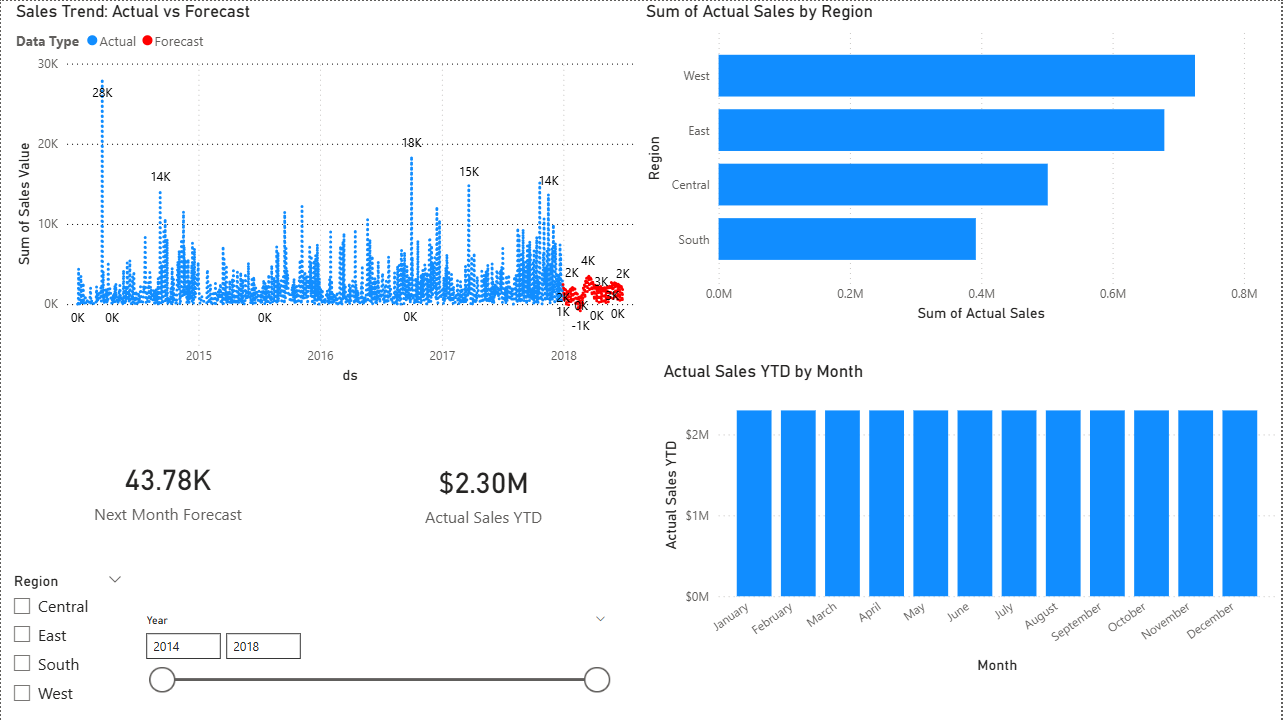

This screenshot's page, from the dashboard's own definition file:
{"tool":"powerbi","page":{"name":"Page 1","canvas":[1280,720],"ordinal":0},"visuals":[{"type":"lineChart","title":"Sales Trend: Actual vs Forecast","fields":{"Category":["final_sales_forecast.ds.Variation.Date Hierarchy.Year"],"Y":["Sum(final_sales_forecast.Sales Value)"],"Series":["final_sales_forecast.Data Type"]},"box":[9.6,0,629.8,387],"z":0},{"type":"card","fields":{"Values":["final_sales_forecast.Next Month Forecast"]},"box":[9.6,410.3,314.2,156.4],"z":1000},{"type":"card","fields":{"Values":["final_sales_forecast.Actual Sales YTD"]},"box":[325.2,414.4,315.6,152.3],"z":2000},{"type":"slicer","fields":{"Values":["monthly_region_sales.Region"]},"box":[0,566.7,133.1,153.7],"z":3000},{"type":"slicer","fields":{"Values":["Date Table.Year"]},"box":[133.1,607.9,484.4,112.5],"z":4000},{"type":"clusteredBarChart","fields":{"Category":["monthly_region_sales.Region"],"Y":["Sum(monthly_region_sales.Actual Sales)"]},"box":[640,0,622.1,325.5],"z":5000},{"type":"clusteredColumnChart","fields":{"Category":["Date Table.Date.Variation.Date Hierarchy.Month"],"Y":["final_sales_forecast.Actual Sales YTD"]},"box":[657.9,359.8,622.1,317.3],"z":6000}]}

Visuals, with their boxes in screenshot pixels (x1, y1, x2, y2), scaled from the page's 1280x720 canvas onto the 1283x720 screenshot:
"Sales Trend: Actual vs Forecast" lineChart: select_region(10, 0, 641, 387)
card - final_sales_forecast.Next Month Forecast: select_region(10, 410, 325, 567)
card - final_sales_forecast.Actual Sales YTD: select_region(326, 414, 642, 567)
slicer - monthly_region_sales.Region: select_region(0, 567, 133, 719)
slicer - Date Table.Year: select_region(133, 608, 619, 719)
clusteredBarChart - monthly_region_sales.Region x Sum(monthly_region_sales.Actual Sales): select_region(642, 0, 1265, 326)
clusteredColumnChart - Date Table.Date.Variation.Date Hierarchy.Month x final_sales_forecast.Actual Sales YTD: select_region(659, 360, 1282, 677)
